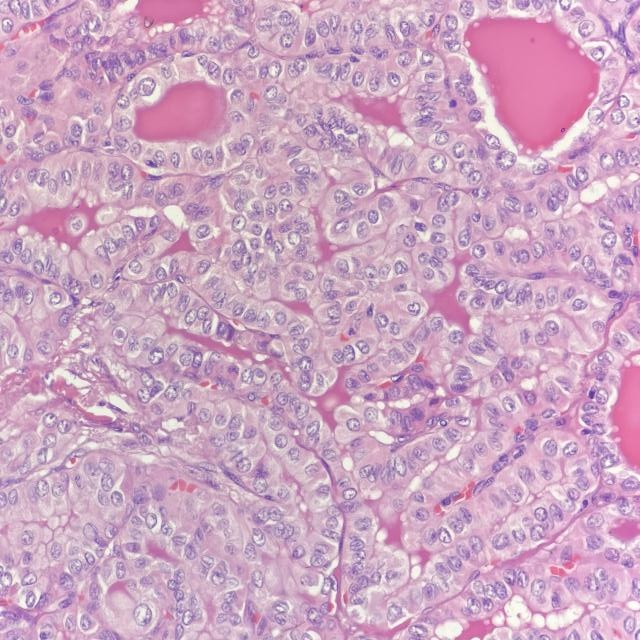TC: (280, 314, 308, 343), (338, 410, 366, 439), (266, 428, 294, 456), (378, 187, 400, 222), (391, 227, 419, 254), (188, 221, 217, 247), (253, 302, 277, 333), (389, 254, 414, 283), (250, 363, 270, 397), (398, 295, 428, 317), (262, 57, 284, 87), (279, 227, 306, 251), (225, 213, 253, 236), (321, 300, 343, 328), (353, 336, 372, 368), (371, 310, 397, 333), (351, 217, 372, 245), (350, 176, 371, 204), (229, 234, 249, 263), (297, 262, 321, 286), (220, 62, 240, 90), (230, 457, 254, 480), (186, 141, 204, 171), (404, 144, 421, 175), (326, 342, 345, 369), (327, 188, 349, 211), (330, 256, 353, 277), (291, 161, 314, 178), (401, 334, 417, 358), (209, 285, 229, 304), (303, 420, 324, 436), (354, 370, 373, 384)
